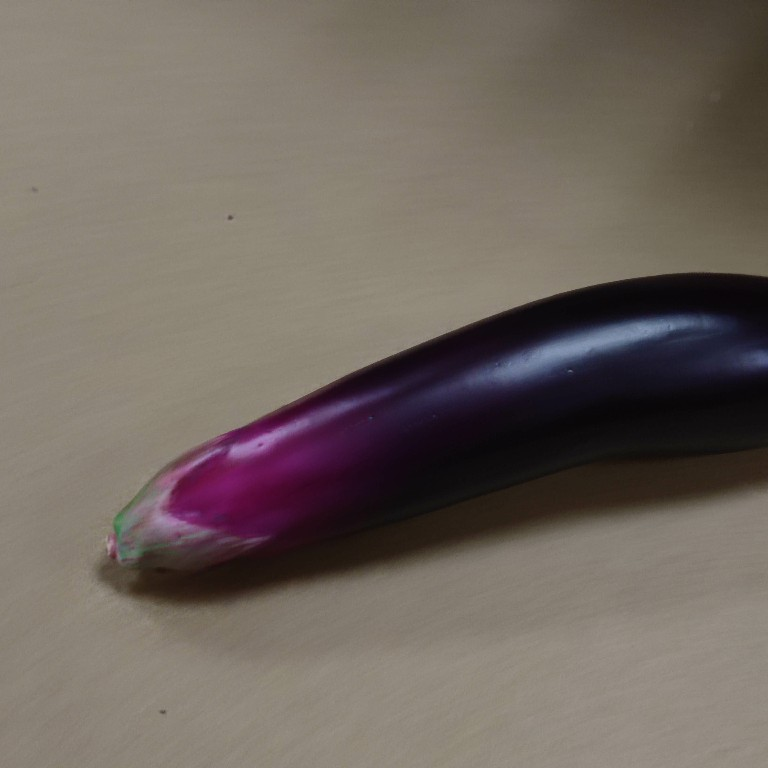fruit_eggplant: (100, 269, 768, 587)
